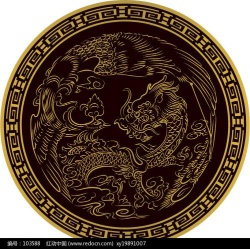ImgView: (1, 1, 249, 248)
